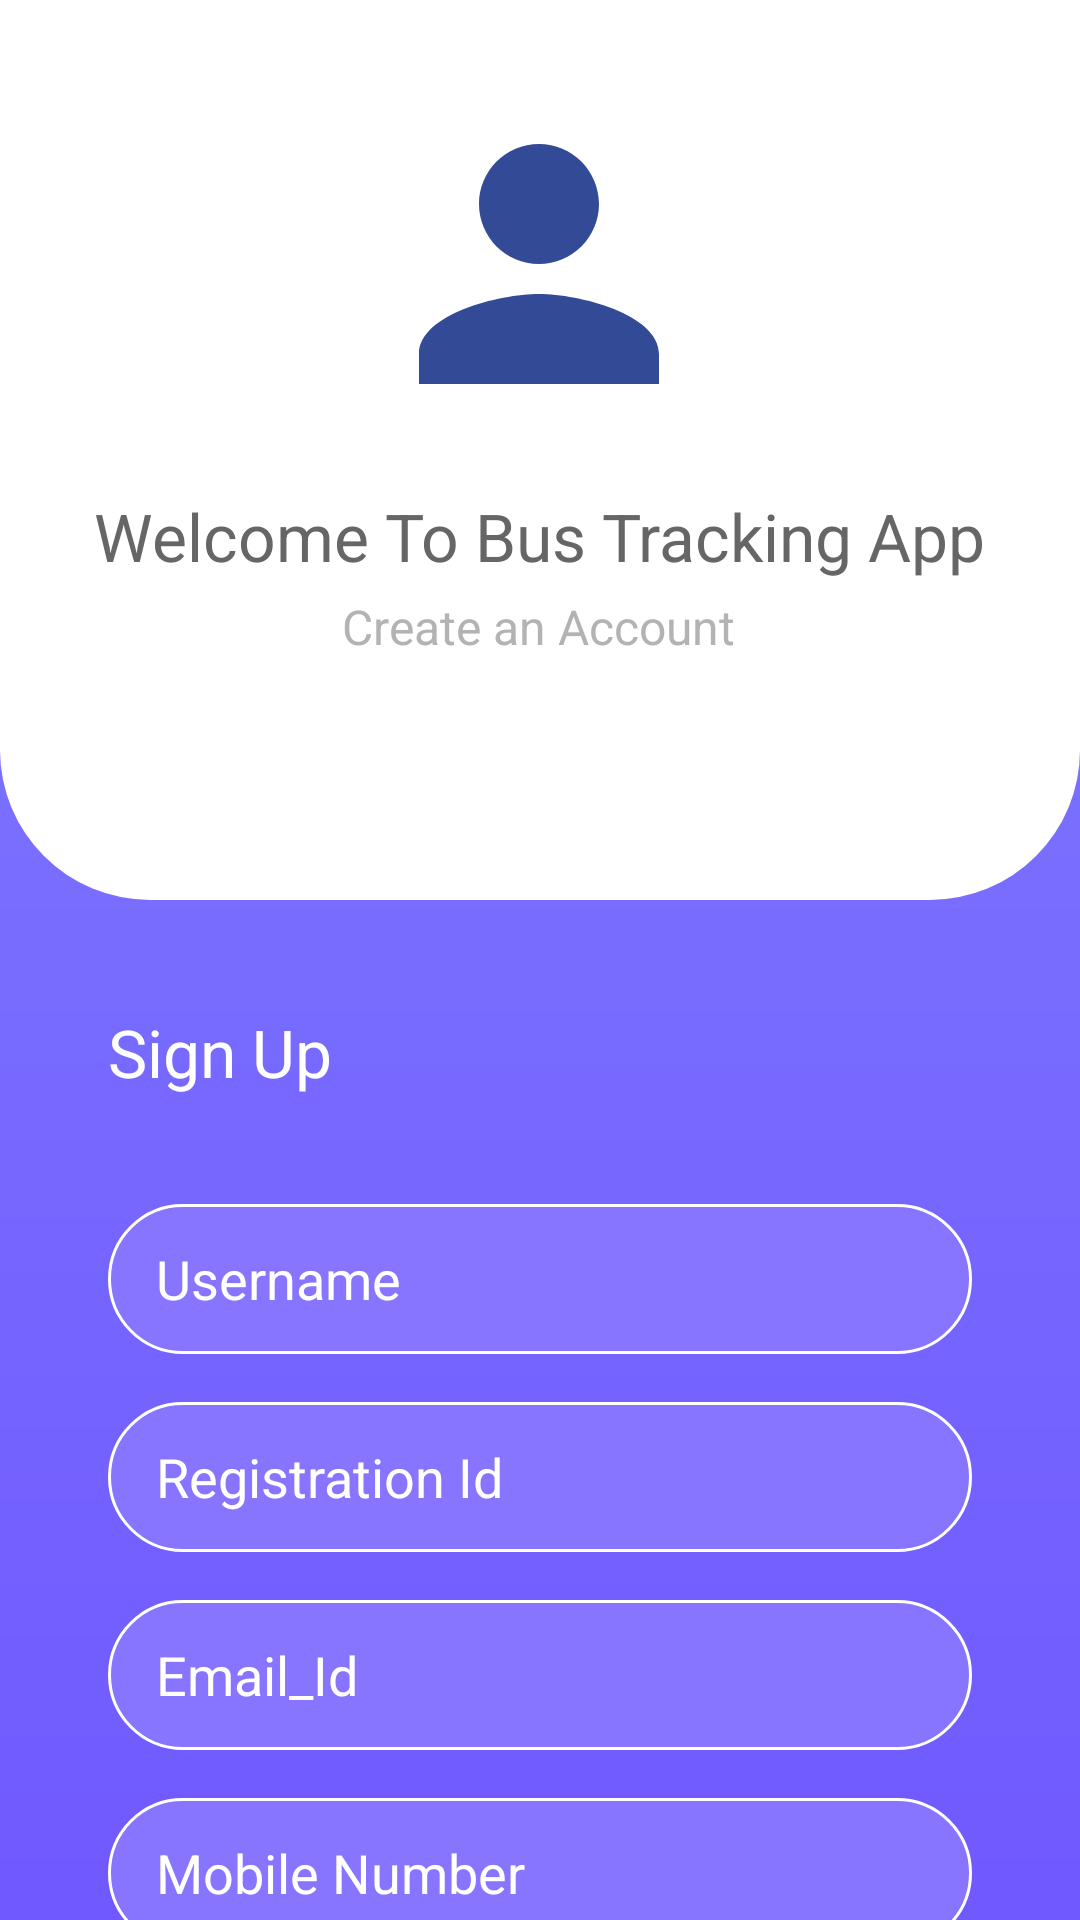

Screen size 1080 × 1920. Icon name, then its center in pixels as (x,y):
person: (539,264)
